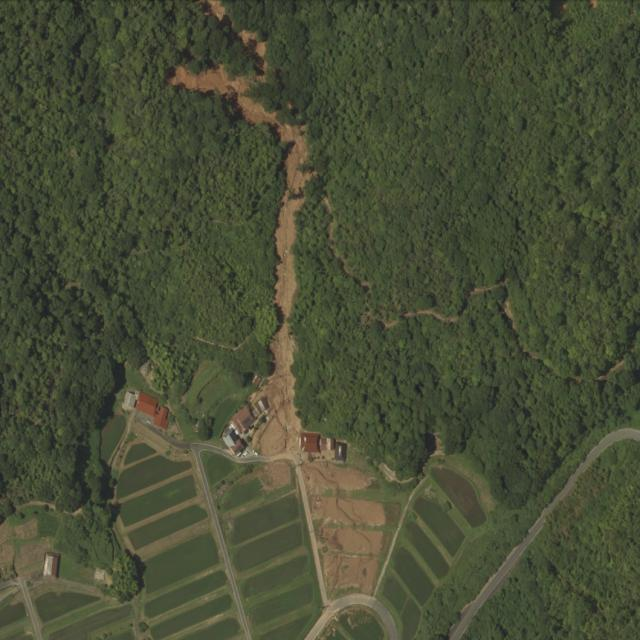landslide: (169, 65, 311, 455), (238, 29, 265, 56), (200, 0, 225, 20)
